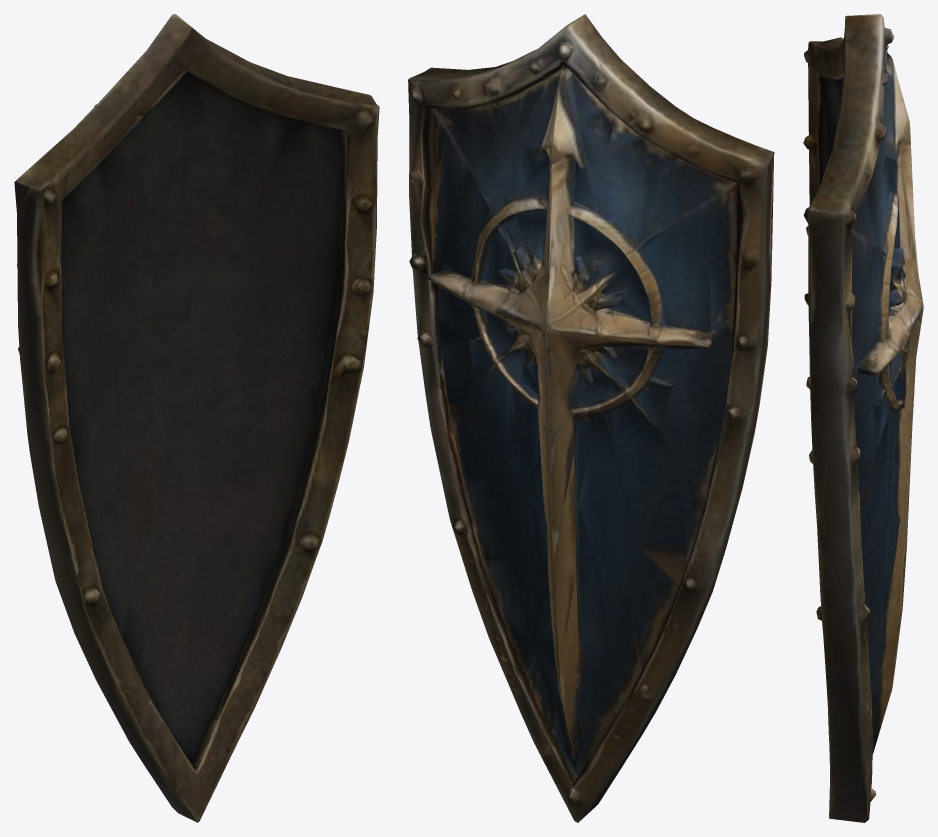
Rendered from kite_compass.glb.
The picture shows the model from 3 angles, left to right: view 1: azimuth 30°, elevation 25°; view 2: azimuth 150°, elevation 25°; view 3: azimuth 270°, elevation 25°; orthographic projection.
Parts seen in each view (by area): view 1: kite_compass; view 2: kite_compass; view 3: kite_compass.
Part boxes in pixels (x1,y1,x2,y2): kite_compass: [14, 14, 379, 822]; kite_compass: [408, 14, 774, 822]; kite_compass: [803, 14, 923, 822].
Bounding box in the file's own units: 0.3931 × 0.8374 × 0.1133.
1 material, 1 textured.
